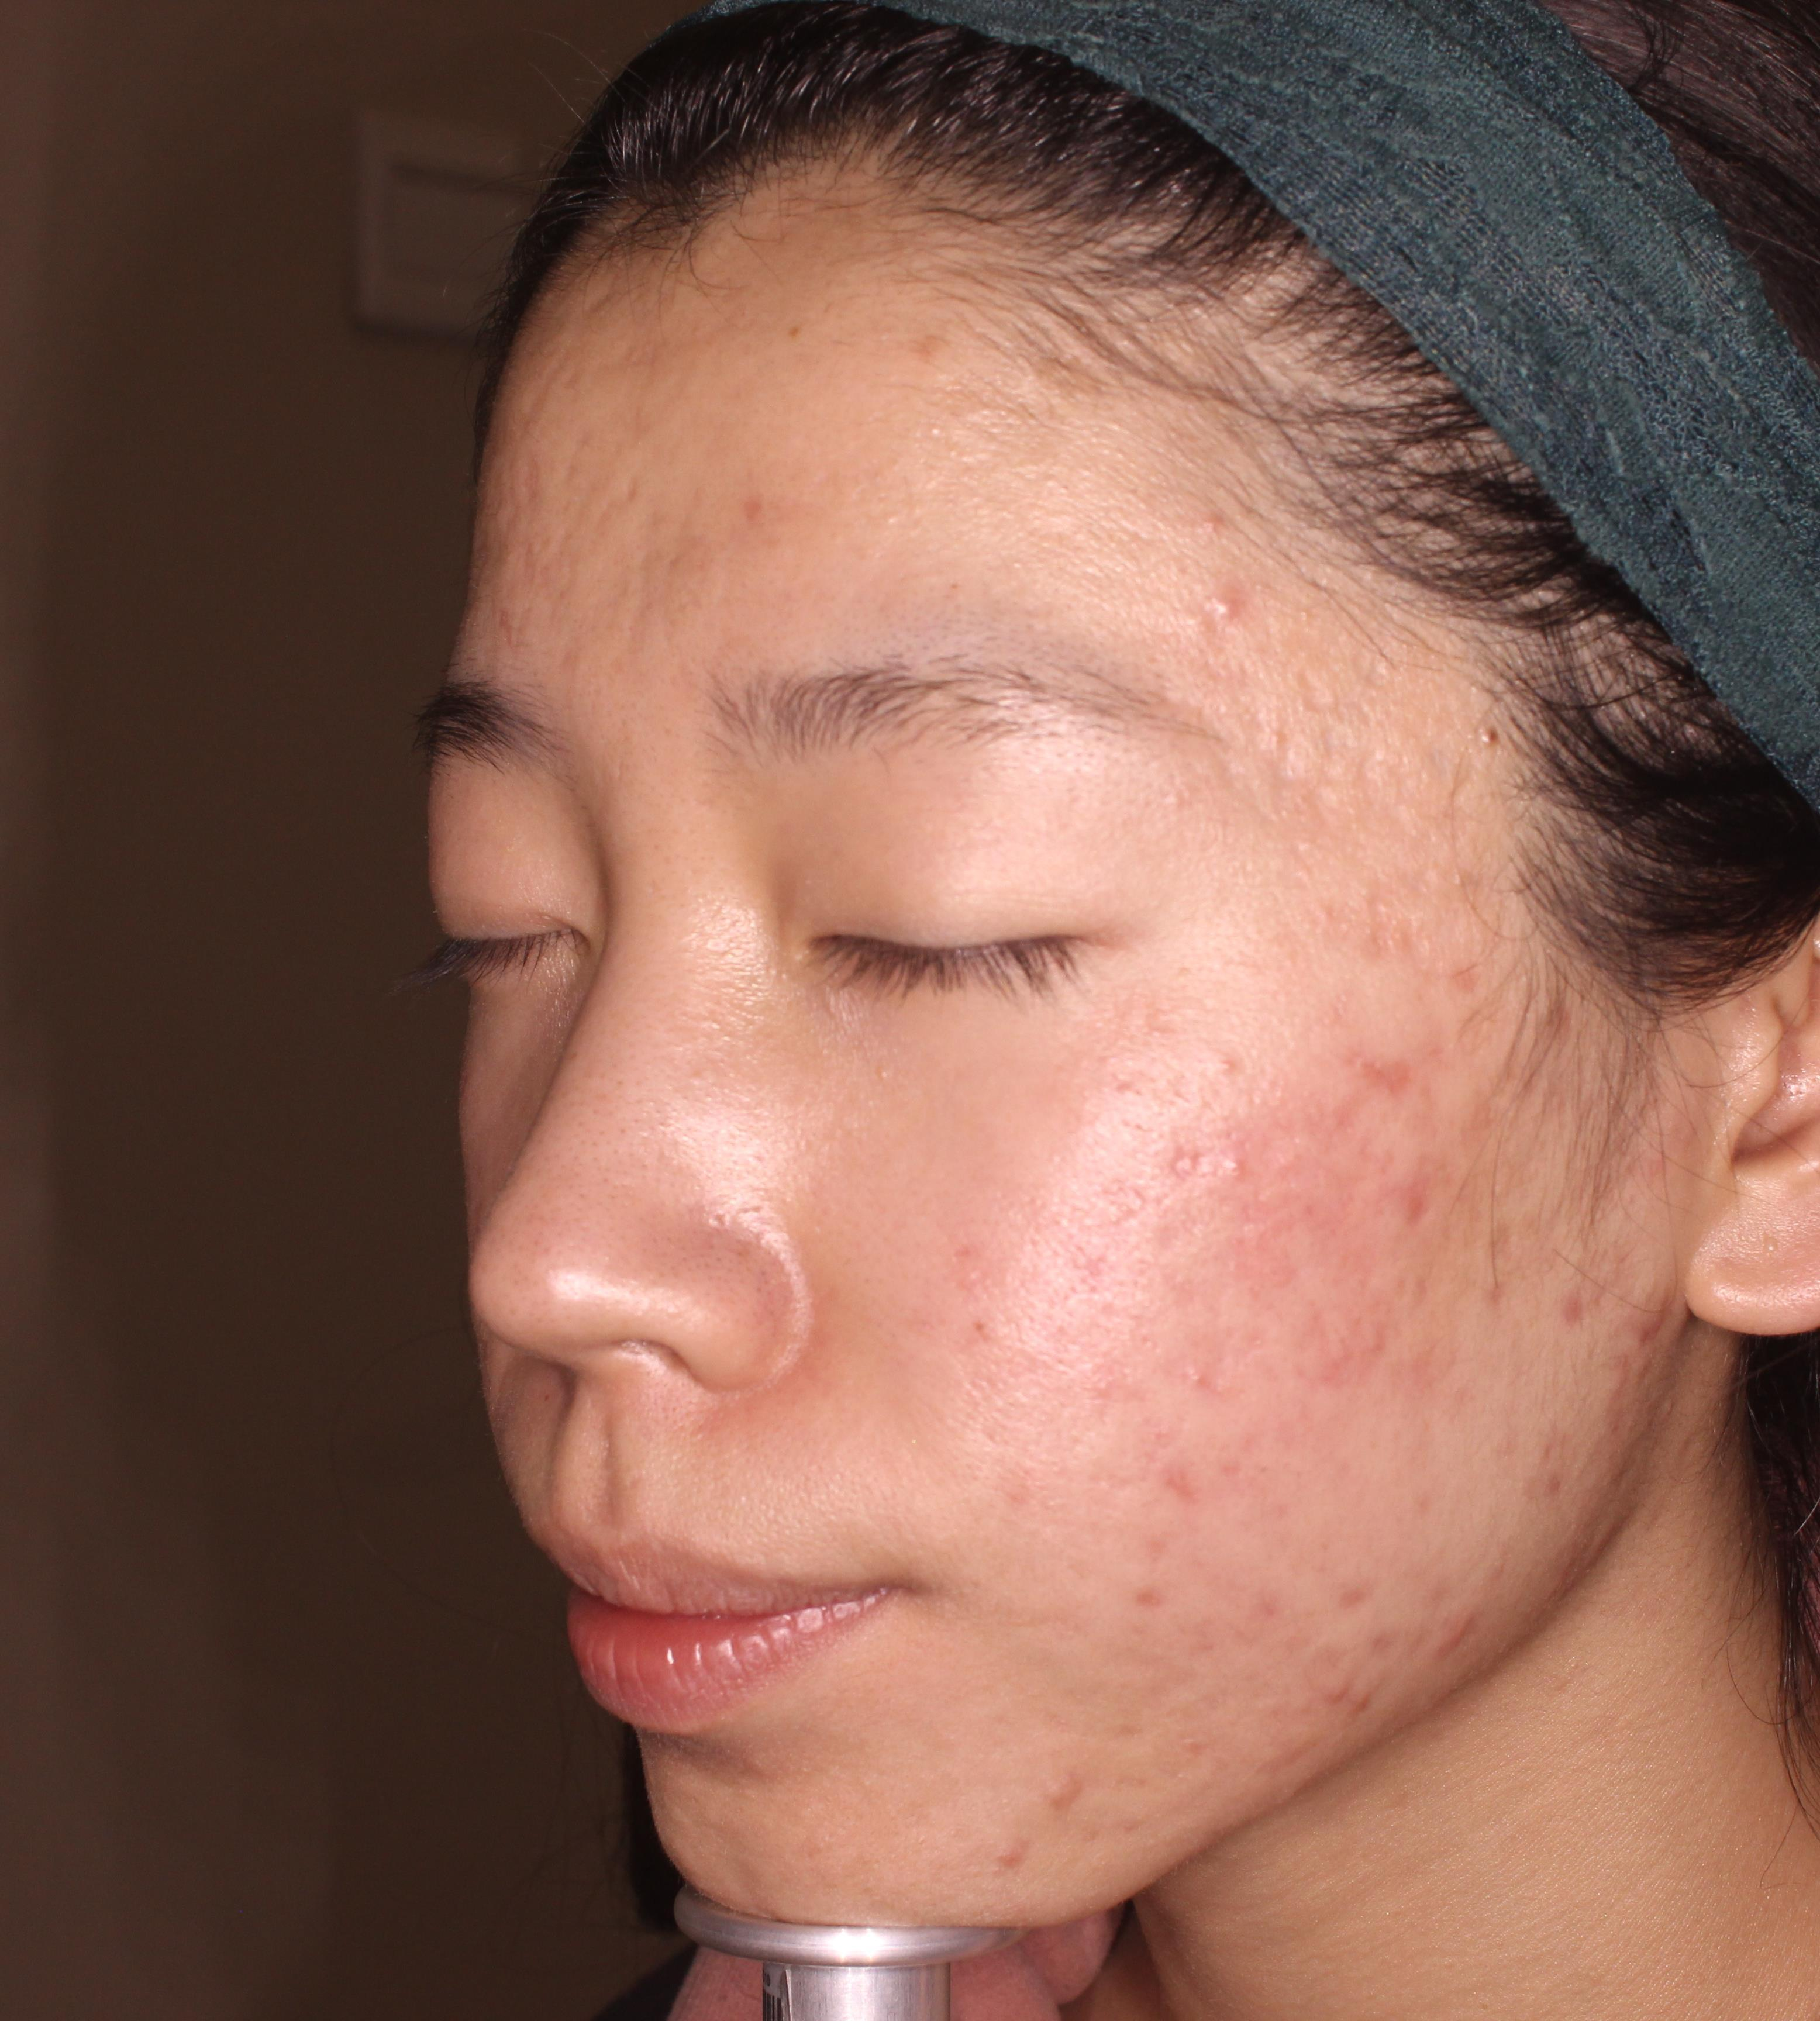fore: (1618, 1262, 1727, 1396), (1319, 1020, 1430, 1133), (1305, 1658, 1426, 1751), (1149, 1101, 1247, 1213), (1161, 558, 1260, 657), (1493, 1424, 1597, 1514), (1381, 1603, 1507, 1670), (1138, 1419, 1202, 1545), (1360, 1155, 1453, 1240), (1305, 1326, 1386, 1410), (1542, 1280, 1606, 1347)
